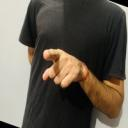hand: (41, 48, 88, 88)
